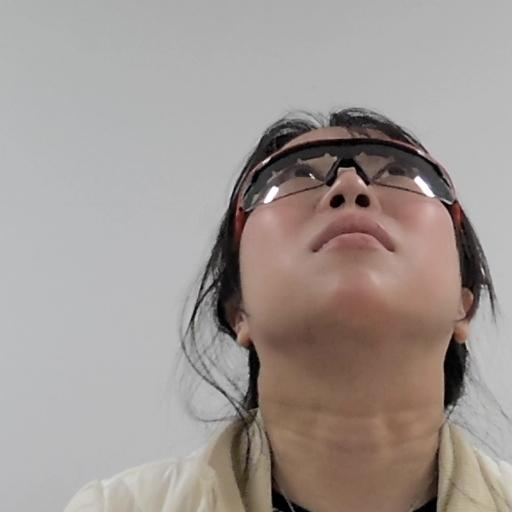glasses: (201, 108, 495, 384)
